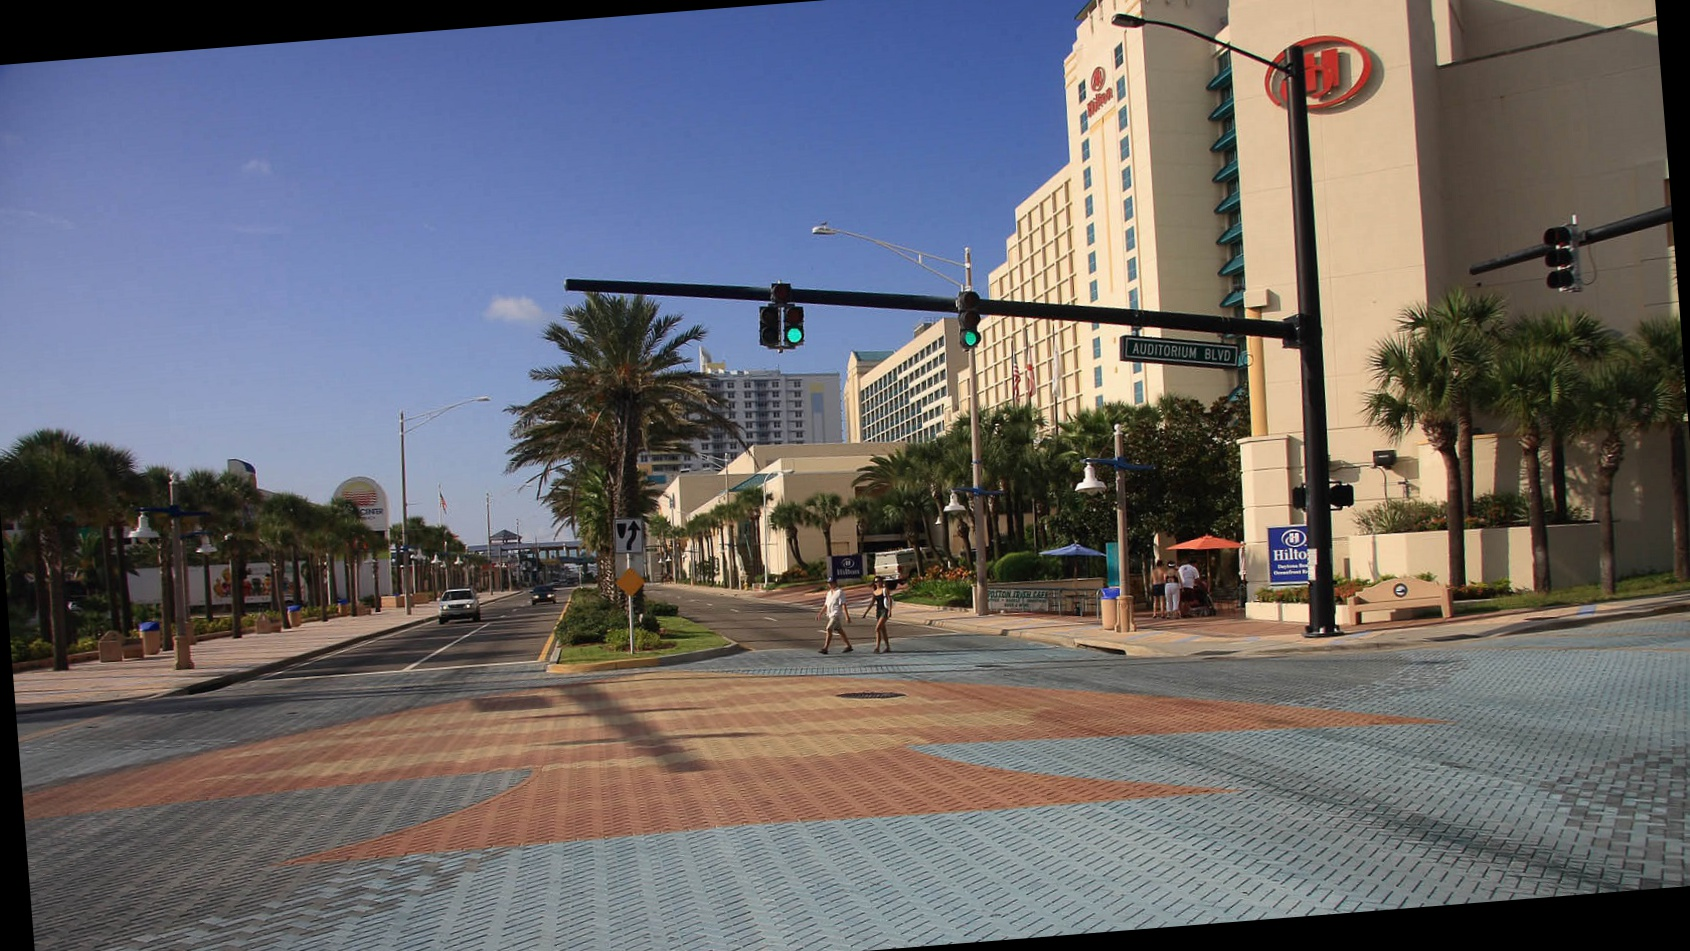traffic_light: (757, 280, 806, 350), (956, 288, 983, 350)
